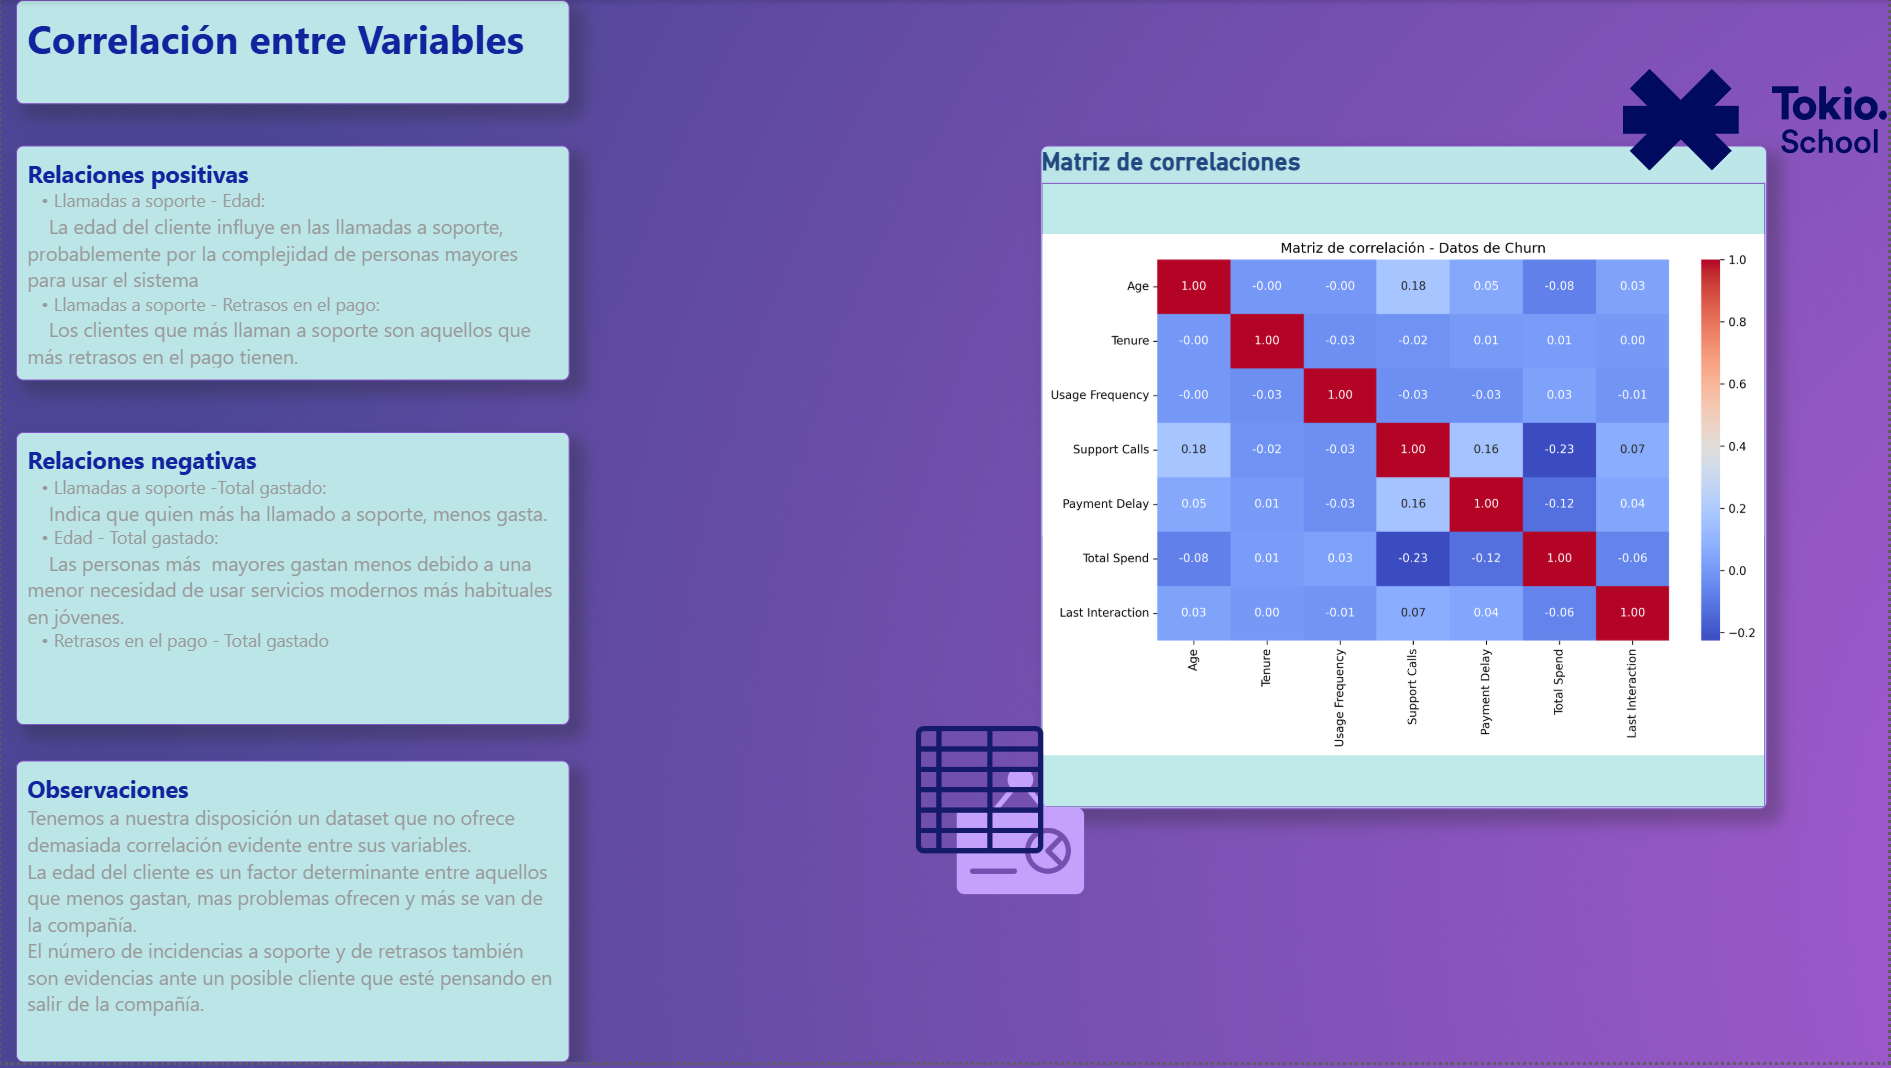

The dashboard page shown, as its layout file describes it:
{"tool":"powerbi","page":{"name":"8 - Correlación entre variables","canvas":[1280,720],"ordinal":7},"visuals":[{"type":"textbox","box":[10.5,0,375.6,70.9],"z":0},{"type":"textbox","box":[10.5,98.8,375.6,159.3],"z":1000},{"type":"textbox","box":[10.5,293,375.6,198.8],"z":2000},{"type":"textbox","box":[10.5,515.1,375.6,204.7],"z":3000},{"type":"image","title":"Matriz de correlaciones","box":[704.3,99.1,492.7,449.9],"z":4000},{"type":"image","box":[558.1,491.9,238.4,114],"z":5000},{"type":"image","box":[1099.8,0,180.2,162.8],"z":6000}]}

Visuals, with their boxes in screenshot pixels (x1, y1, x2, y2), scaled from the page's 1280x720 canvas onto the 1891x1068 screenshot:
textbox: x1=16 y1=0 x2=570 y2=105
textbox: x1=16 y1=147 x2=570 y2=383
textbox: x1=16 y1=435 x2=570 y2=730
textbox: x1=16 y1=764 x2=570 y2=1067
"Matriz de correlaciones" image: x1=1040 y1=147 x2=1768 y2=814
image: x1=825 y1=730 x2=1177 y2=899
image: x1=1625 y1=0 x2=1890 y2=241
